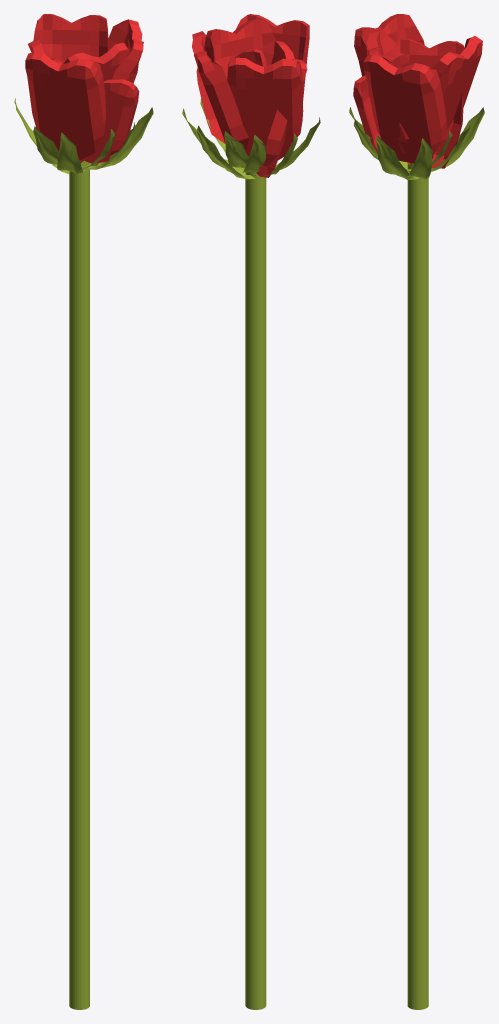
Rendered from rose.model.fbx.
3 views of the same model, side by side, from view 1: azimuth 30°, elevation 25°; view 2: azimuth 210°, elevation 25°; view 3: azimuth 270°, elevation 25° (orthographic).
Visible parts, largest first — view 1: flower00.001; view 2: flower00.001; view 3: flower00.001.
Boxes of the visible parts, <box> form: flower00.001: <box>14,14,153,1009</box>; flower00.001: <box>182,14,320,1009</box>; flower00.001: <box>349,14,484,1009</box>.
Bounding box in the file's own units: 8.77 × 66.34 × 8.44.
